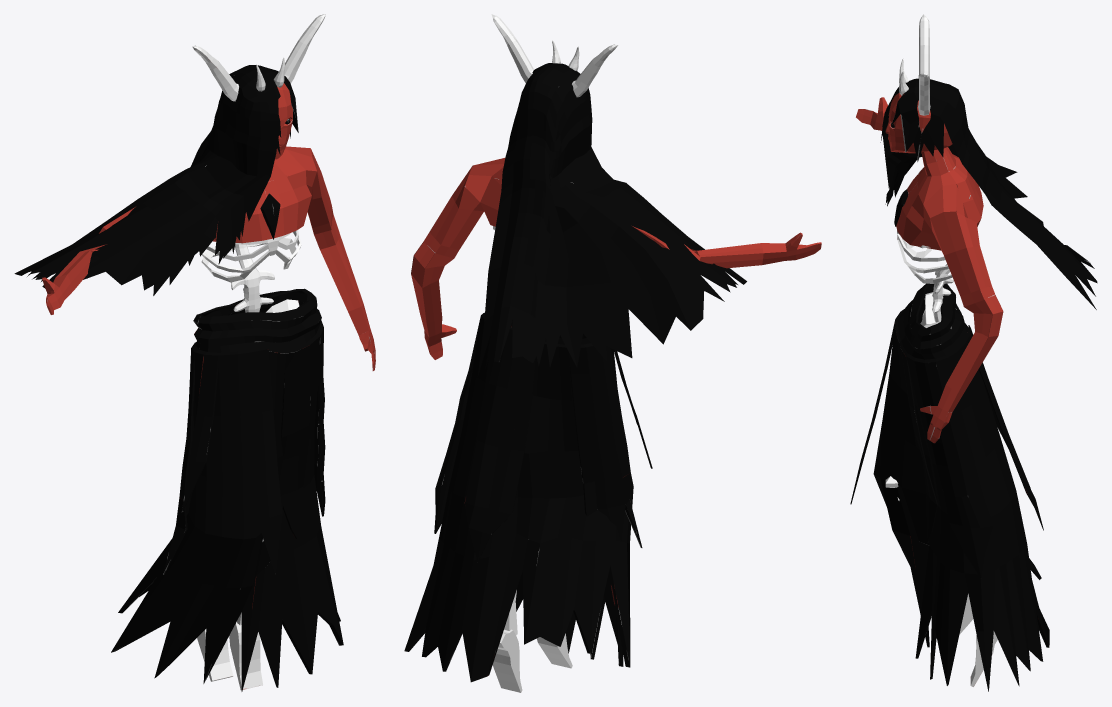
Rendered from cursedqueenattack_04.fbx.
The picture shows the model from 3 angles, left to right: view 1: azimuth 30°, elevation 25°; view 2: azimuth 150°, elevation 25°; view 3: azimuth 270°, elevation 25°; orthographic projection. The views are drawn at different scales.
Visible parts, largest first — view 1: cursed_queen; view 2: cursed_queen; view 3: cursed_queen.
Boxes of the visible parts, x1,y1,x2,y2 form: cursed_queen: (14,14,375,691); cursed_queen: (404,14,821,692); cursed_queen: (850,14,1097,691).
Size of the model in its own units: 160 by 280 by 99.51.
